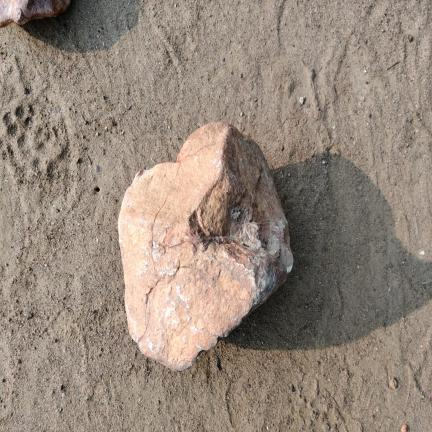Rocks: (119, 123, 292, 370), (0, 0, 70, 27), (388, 378, 398, 390), (401, 425, 408, 431), (408, 34, 413, 42), (299, 97, 304, 105)
